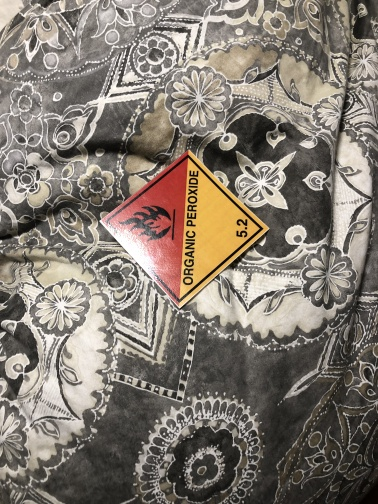OrganicPeroxide: (99, 150, 269, 309)
